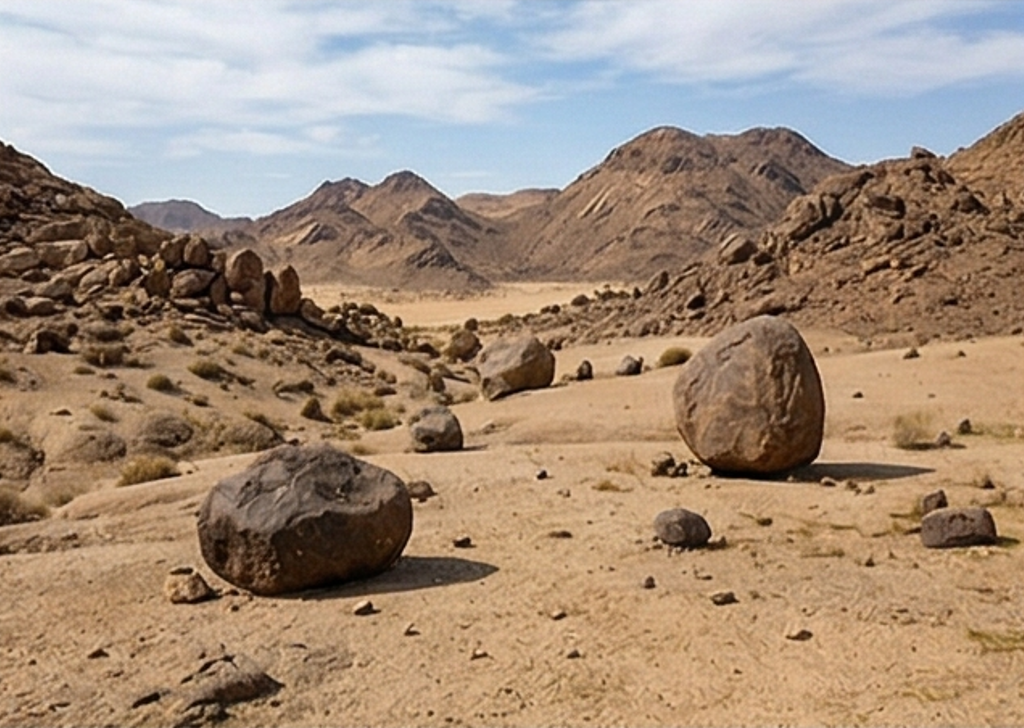rocks: (198, 445, 412, 594), (672, 315, 824, 474), (481, 338, 553, 398), (921, 507, 997, 547), (413, 408, 462, 451), (655, 510, 709, 547)
